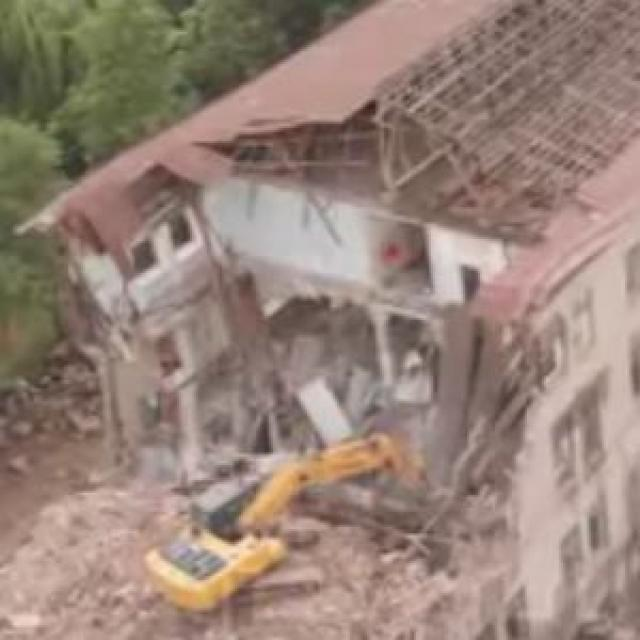collapsed_building: (98, 151, 572, 636)
